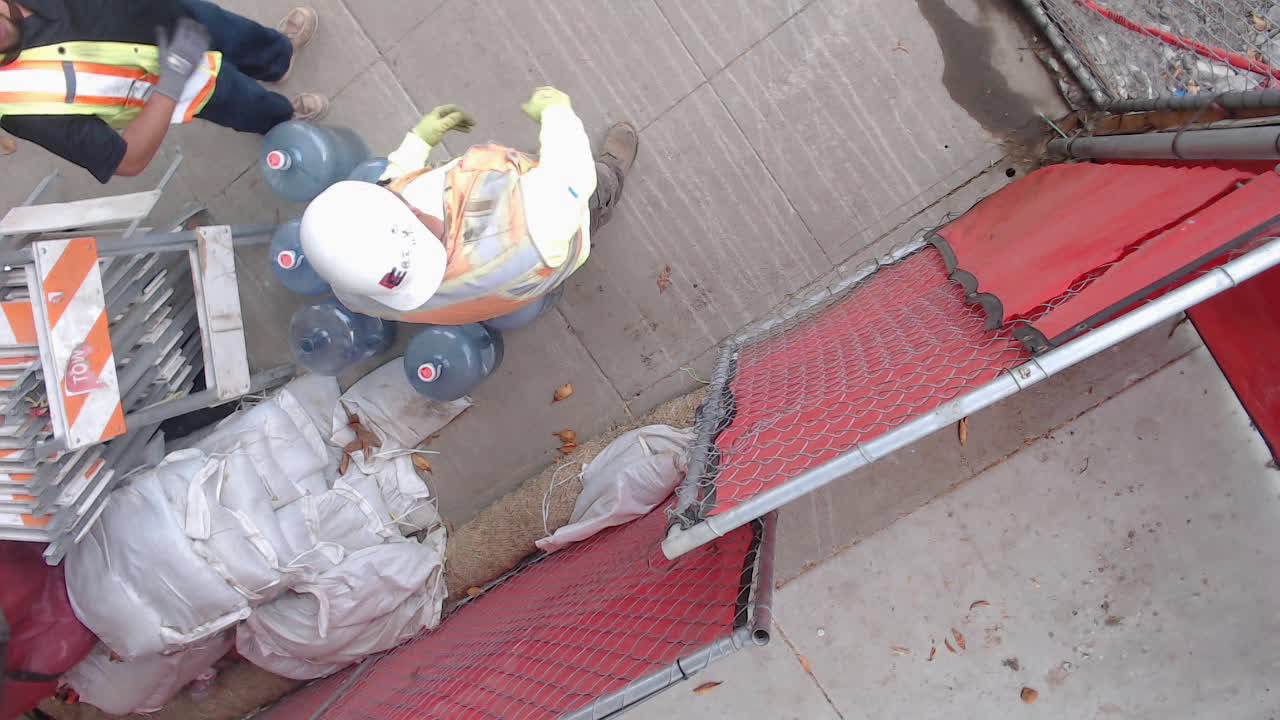hardhat: (296, 180, 449, 313)
safetyvest: (366, 141, 582, 336), (1, 40, 223, 128)
